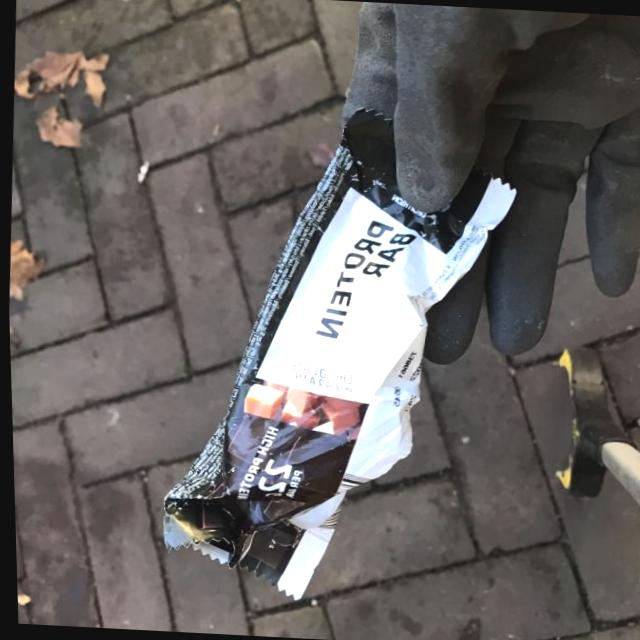Plastic: (137, 93, 533, 616)
